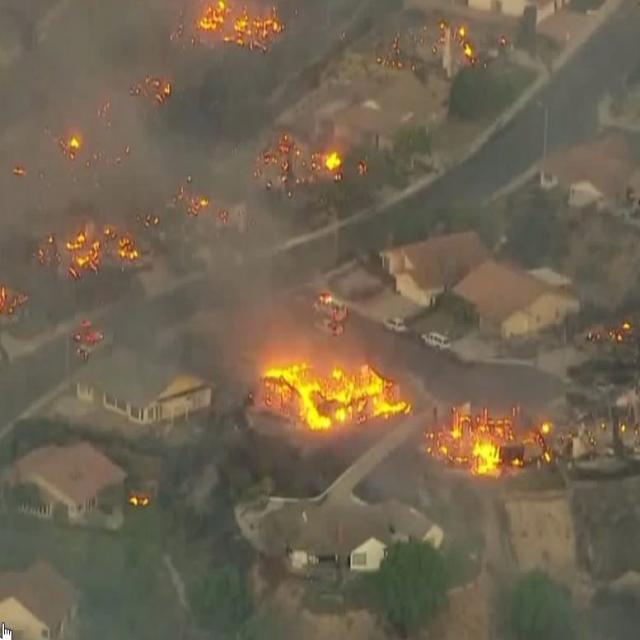Fire: (262, 361, 550, 482)
